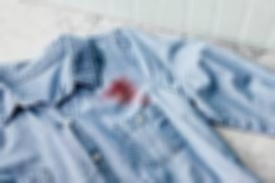wine: (101, 74, 152, 108)
